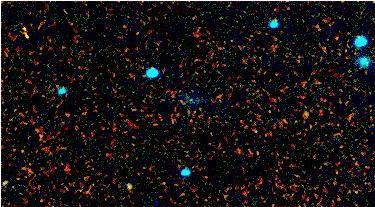star: (289, 98, 319, 128)
